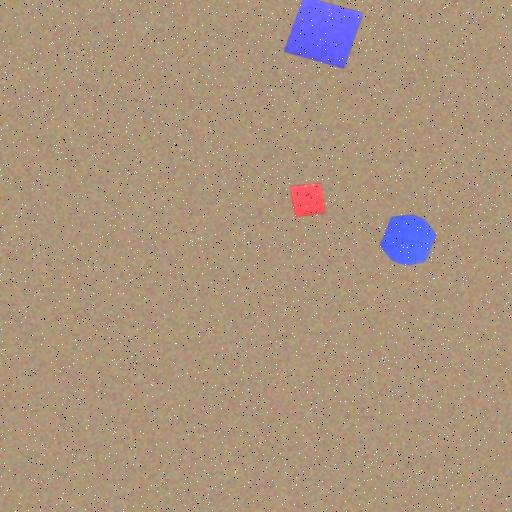BLUE_SQUARE: (283, 0, 364, 69)
RED_SQUARE: (290, 182, 326, 218)
